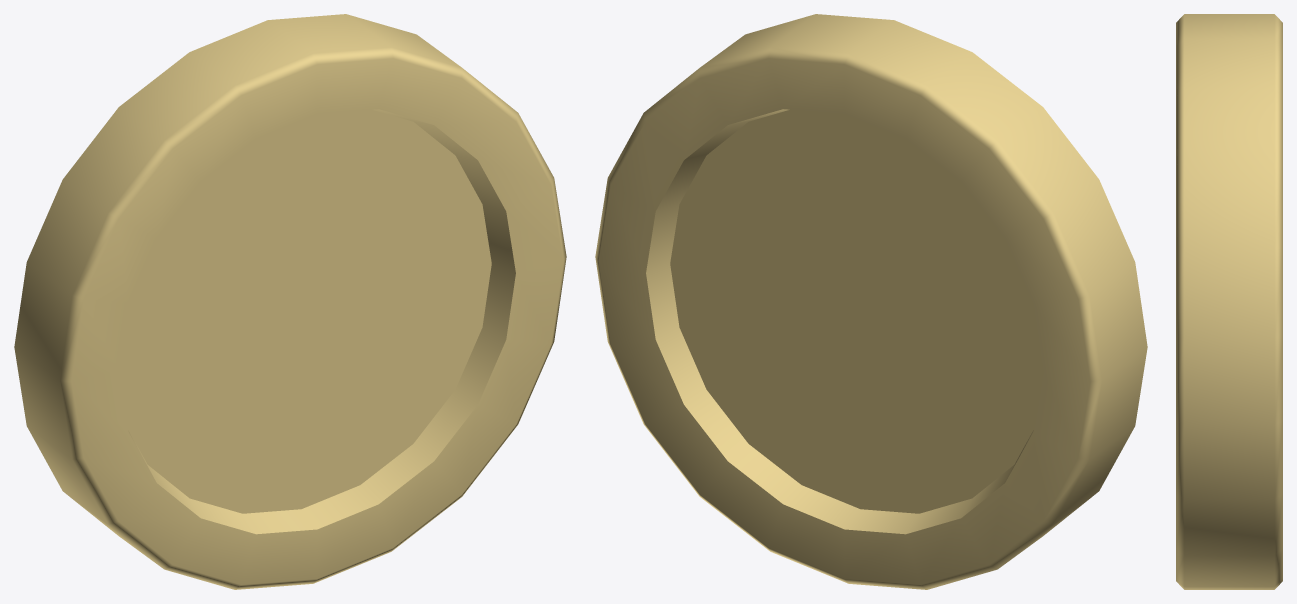
Rendered from mesh_coin.fbx.
3 views of the same model, side by side, from view 1: azimuth 30°, elevation 25°; view 2: azimuth 150°, elevation 25°; view 3: azimuth 270°, elevation 25° (orthographic).
Parts seen in each view (by area): view 1: mesh_coin; view 2: mesh_coin; view 3: mesh_coin.
Part boxes in pixels (x1=…): mesh_coin: x1=14, y1=14, x2=566, y2=589; mesh_coin: x1=595, y1=14, x2=1147, y2=589; mesh_coin: x1=1176, y1=14, x2=1282, y2=589.
Size of the model in its own units: 0.0191 by 0.0191 by 0.00352.
